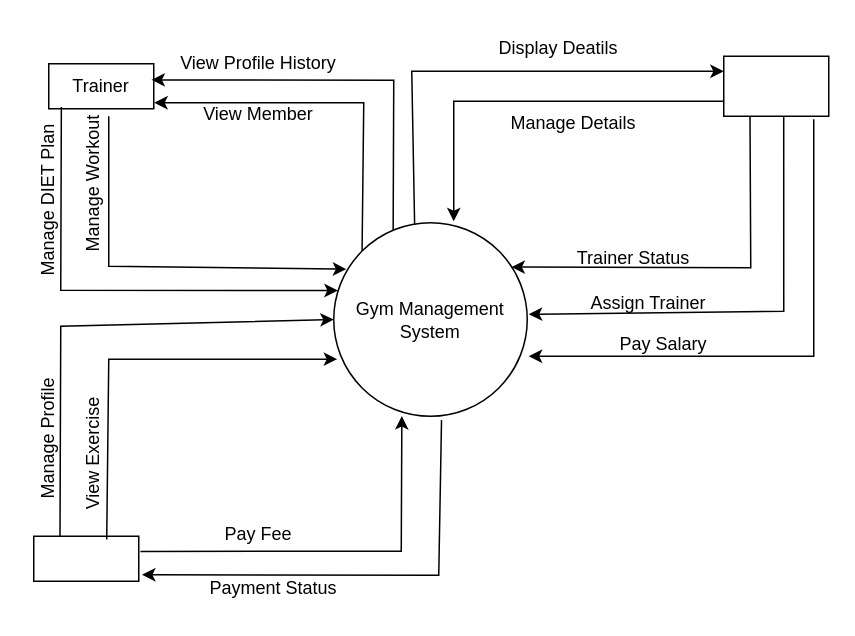
The diagram is 855 pixels wide and 636 high, and some of its shapes have lost their labels. Each missing label, with the centre of its shape:
Manager: the point at 775,85
Member: the point at 85,558
